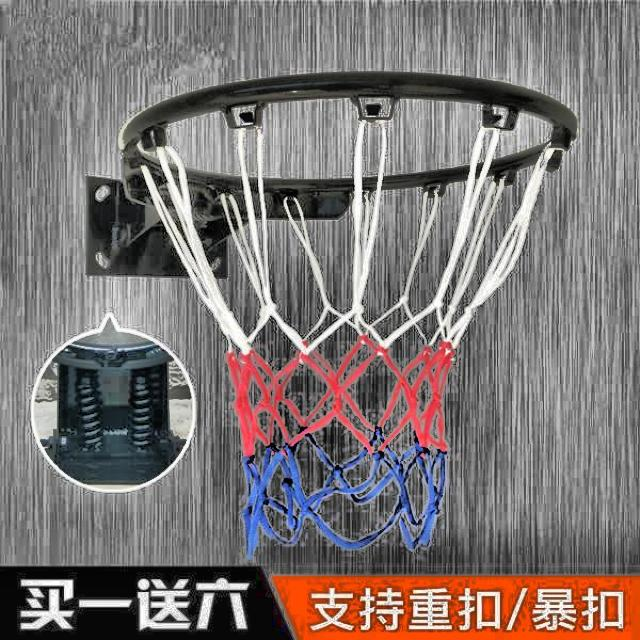rim: (125, 73, 574, 546)
